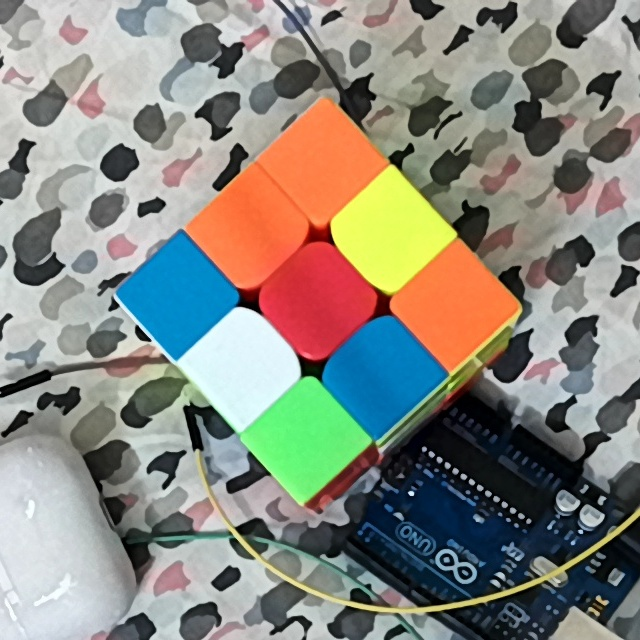tile: (283, 264, 350, 333), (419, 274, 487, 337), (349, 340, 415, 404), (216, 201, 279, 268), (274, 407, 337, 472), (290, 133, 352, 196), (143, 266, 209, 325), (210, 335, 271, 398), (362, 200, 422, 262)
